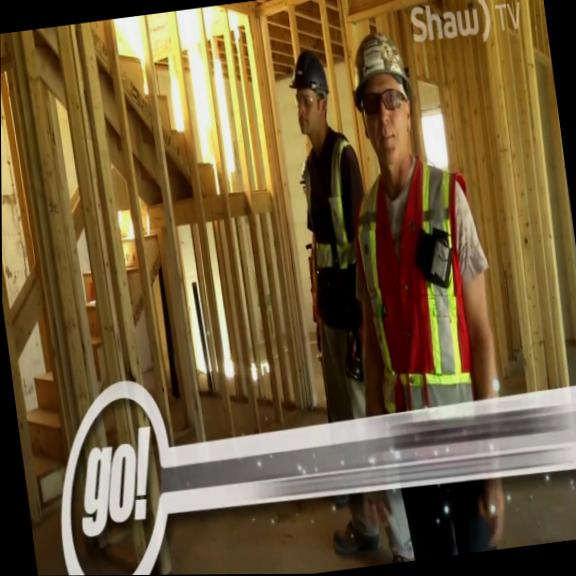safety_vest: (347, 147, 495, 414), (296, 132, 369, 272)
